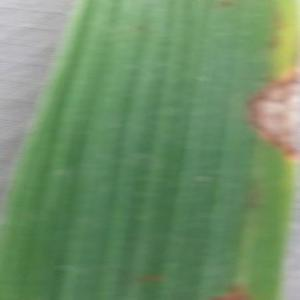Rice_Blast: (241, 60, 300, 157)
